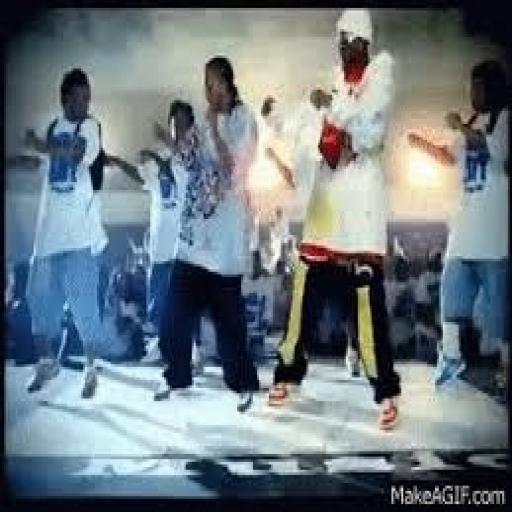dancing: (117, 45, 363, 474), (265, 8, 405, 433)
